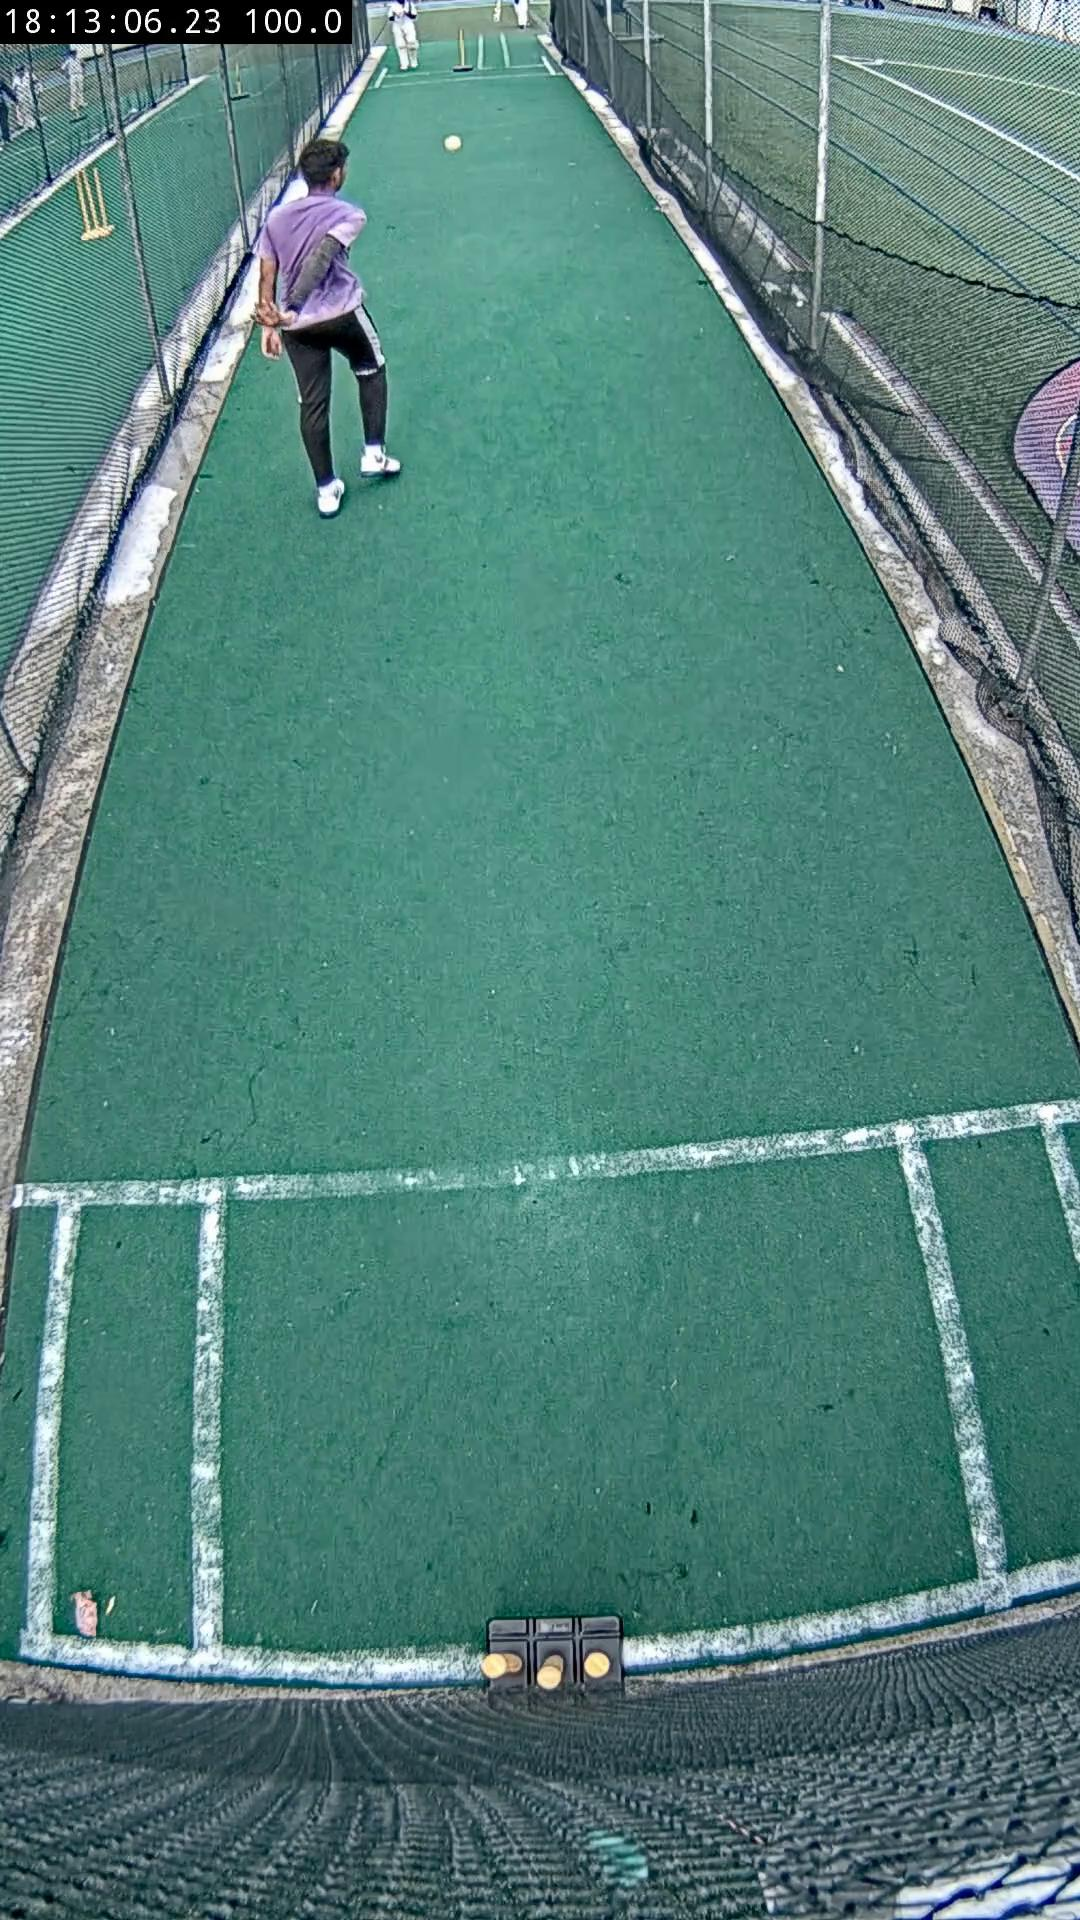ball: (443, 135, 462, 154)
stumps: (480, 1617, 622, 1698)
